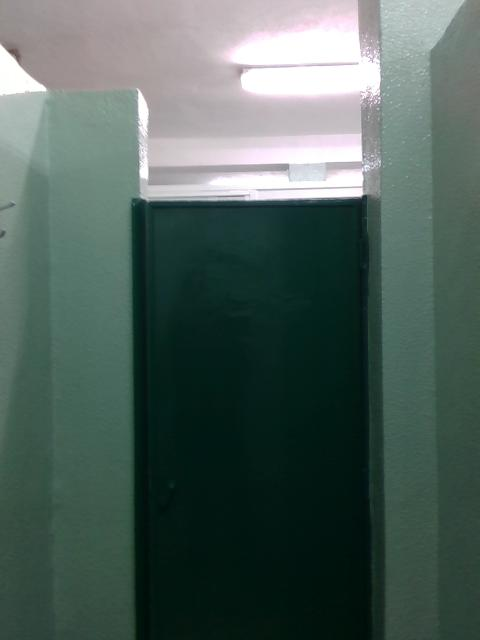door: (133, 195, 377, 634)
